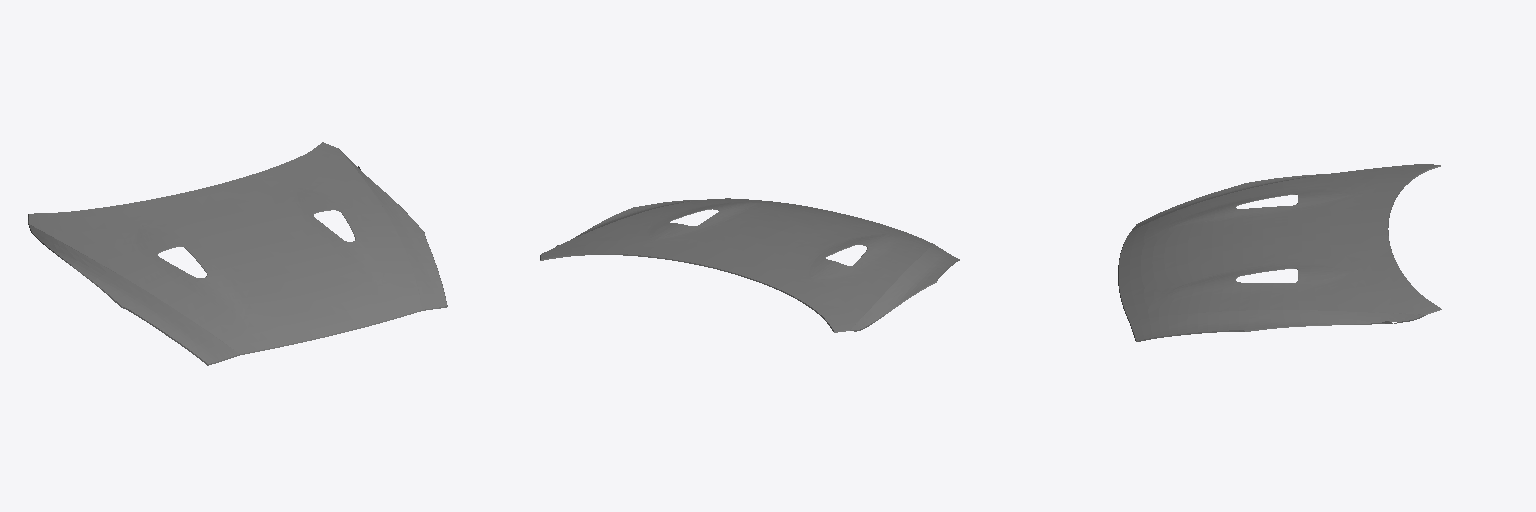
File: Cofre.obj
The picture shows the model from 3 angles: view 1: azimuth 30°, elevation 25°; view 2: azimuth 150°, elevation 25°; view 3: azimuth 270°, elevation 25°; orthographic projection.
Visible parts, largest first — view 1: NIS19_body_0; view 2: NIS19_body_0; view 3: NIS19_body_0.
Part boxes in pixels (bbox=[...]): NIS19_body_0: bbox=[28, 142, 447, 365]; NIS19_body_0: bbox=[540, 198, 959, 332]; NIS19_body_0: bbox=[1118, 164, 1441, 341].
Size of the model in its own units: 56.69 by 9.63 by 50.58.